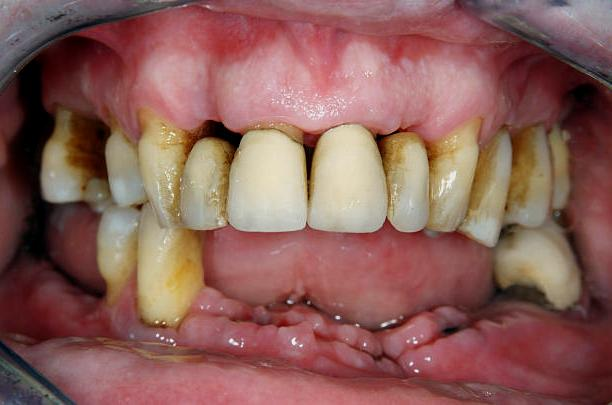Calculus: (127, 198, 208, 327), (228, 110, 305, 241), (170, 109, 245, 234), (311, 124, 389, 234), (420, 118, 489, 229), (458, 126, 525, 236), (127, 111, 196, 217), (30, 99, 98, 202), (493, 121, 556, 227), (376, 122, 435, 224)
Discoloration: (488, 231, 586, 314)
Hypodontia: (188, 236, 512, 347)
